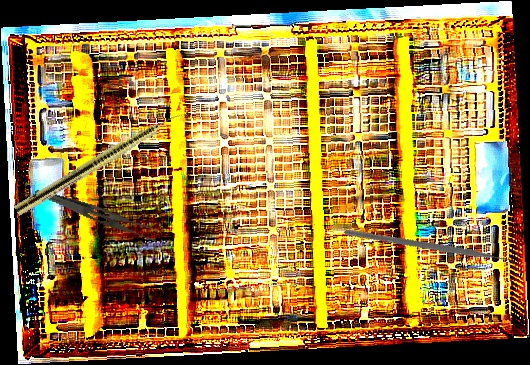Chopper: (343, 176, 521, 328)
Dressing Forceps: (30, 188, 161, 244)
Handpiece: (13, 104, 189, 219)
